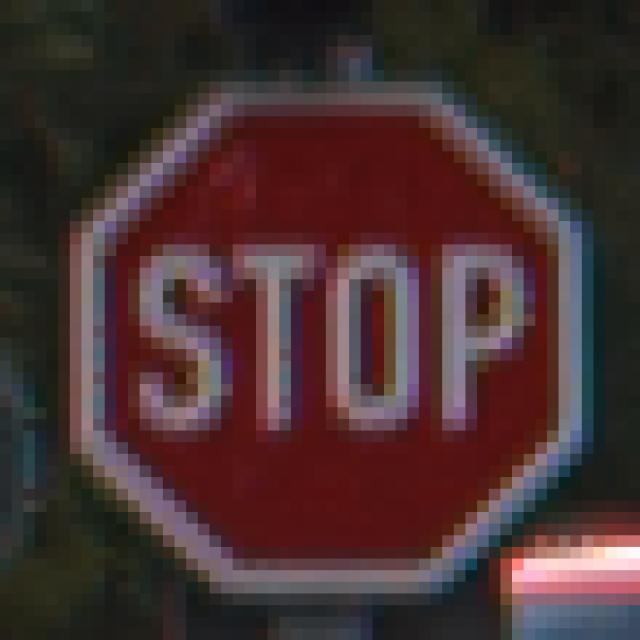STOP: (71, 71, 583, 583)
